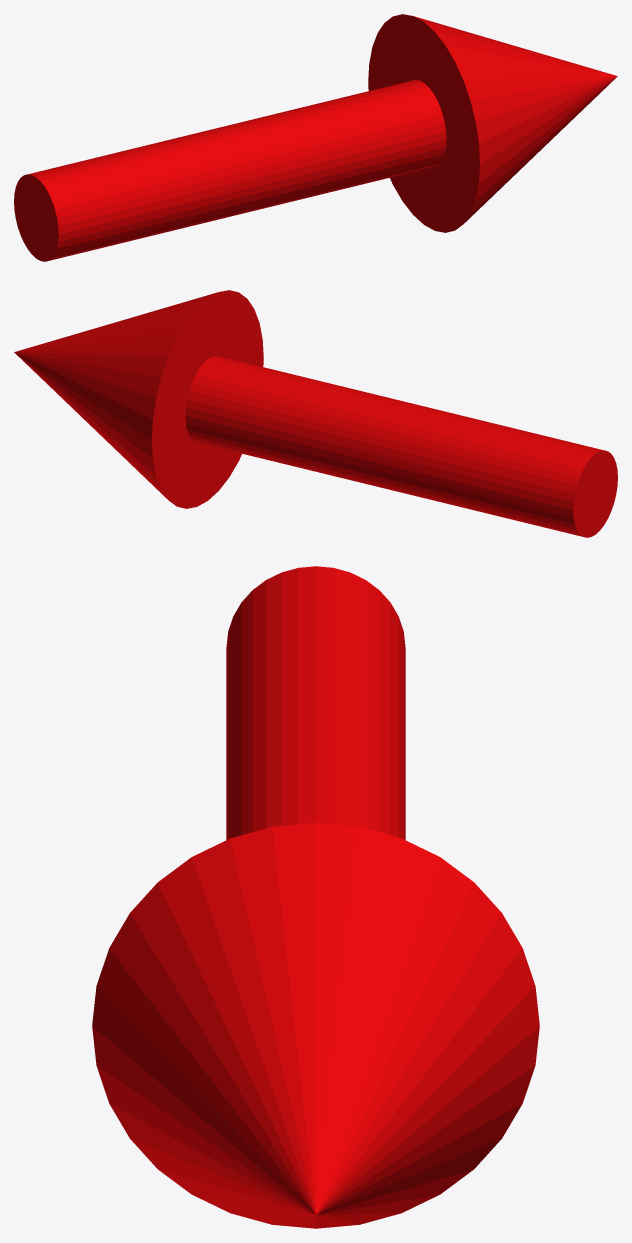
The model's file is Arrow.fbx.
3 views of the same model, one above another, from view 1: azimuth 30°, elevation 25°; view 2: azimuth 150°, elevation 25°; view 3: azimuth 270°, elevation 25° (orthographic). The views are drawn at different scales.
Visible parts, largest first — view 1: Cylinder, Cone; view 2: Cylinder, Cone; view 3: Cone, Cylinder.
Boxes of the visible parts, left/top/right/bottom form: Cylinder: left=14, top=79, right=446, bottom=261; Cone: left=368, top=14, right=617, bottom=232; Cylinder: left=185, top=355, right=617, bottom=537; Cone: left=14, top=290, right=263, bottom=508; Cone: left=92, top=823, right=539, bottom=1228; Cylinder: left=226, top=566, right=405, bottom=839.
Bounding box in the file's own units: 300 × 100 × 100.
